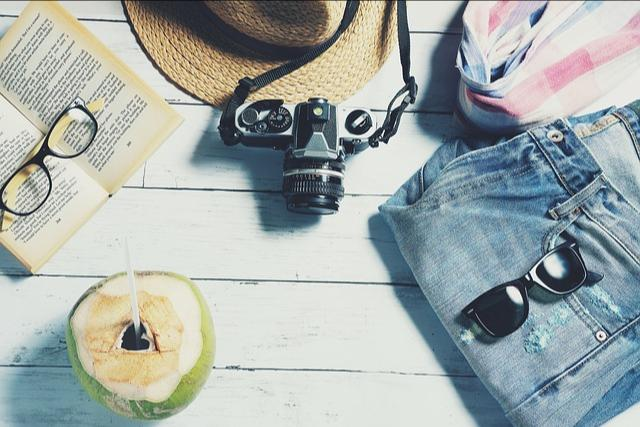Non_Gorille: (16, 9, 618, 427)
